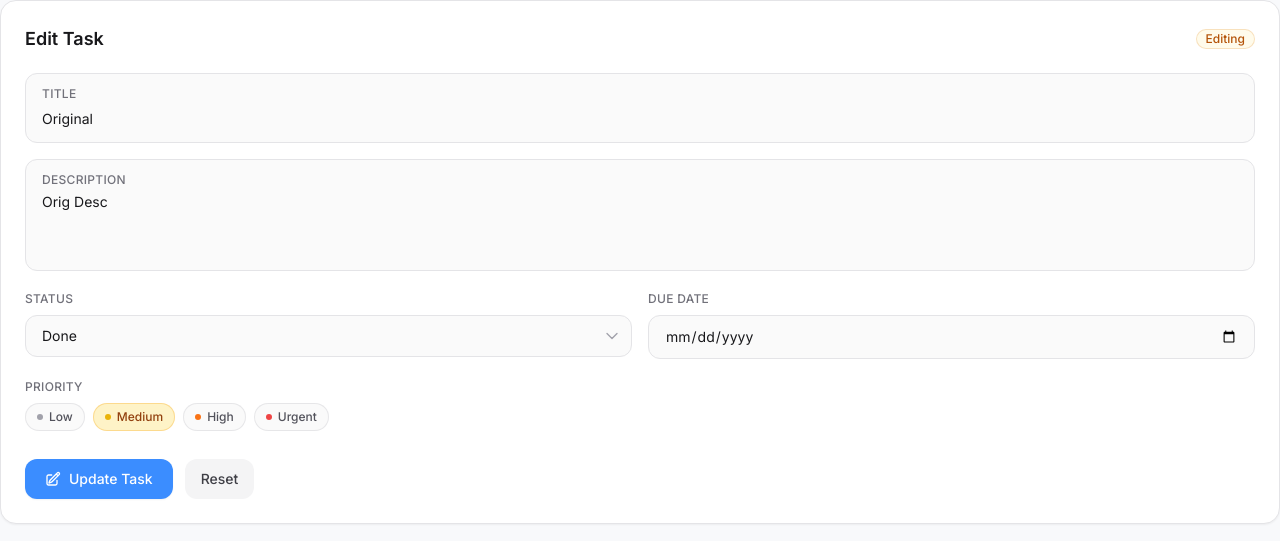
Test case: TaskForm Component › reset button restores initial values
Replace the text in the field labelled "Title" with "Changed": (640, 119) [42,109,1238,129]
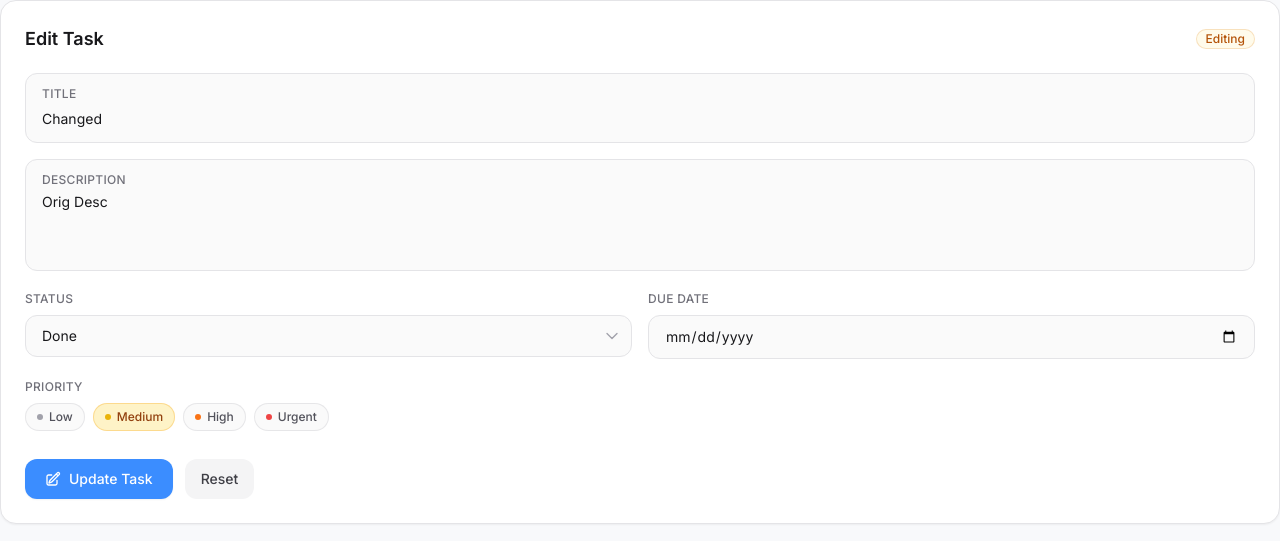
Click the button "Reset": (219, 479) [185,459,254,499]
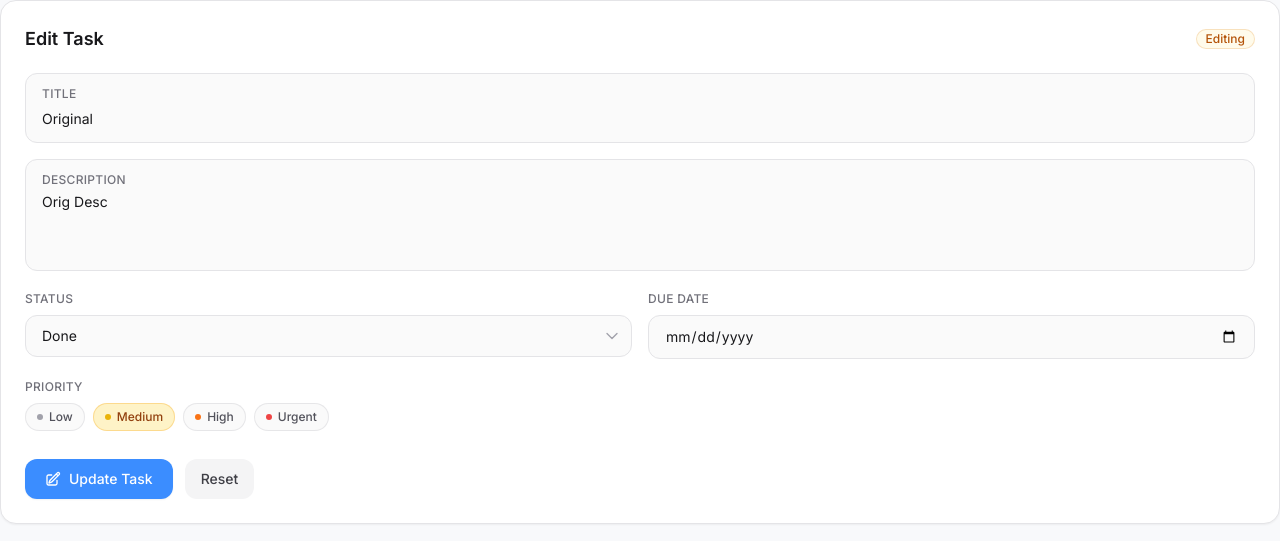
Expected: the text box labelled "Description" holds "Orig Desc", [42,192,1238,252]
Now the field labelled "Title" holds "Original", box [42,109,1238,129]
